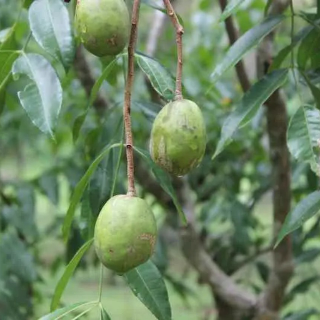coc: (93, 193, 157, 275), (149, 98, 207, 177)
